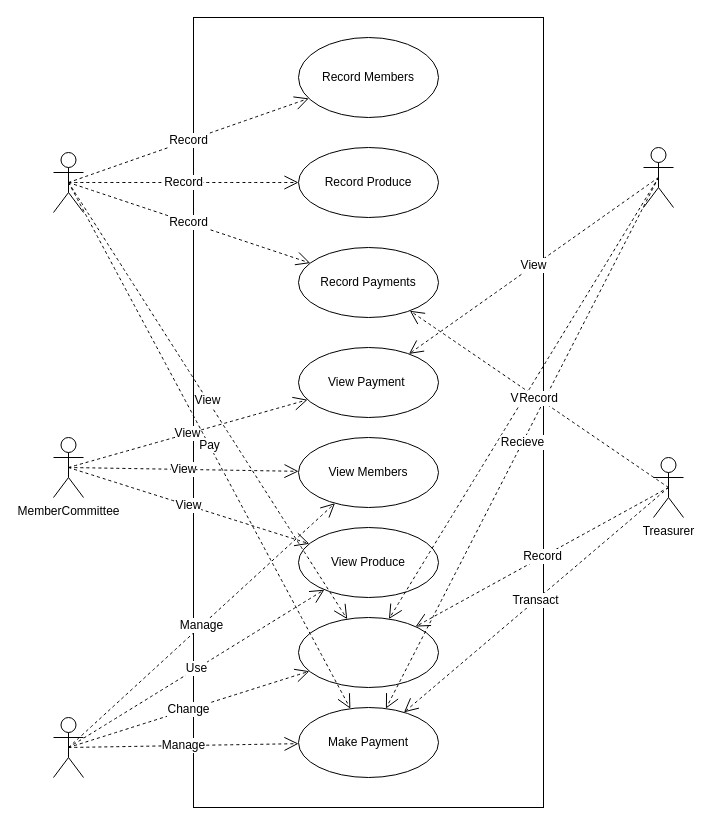
Image size: 711x825. Some labels were removed from this diagram. Each missing label, with the centre of its shape:
Change Payment: point (368, 652)
Depot Clerk: point (68, 182)
Manager: point (68, 747)
Members: point (658, 177)
